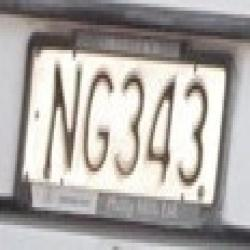LicensePlate: (21, 31, 228, 221)
